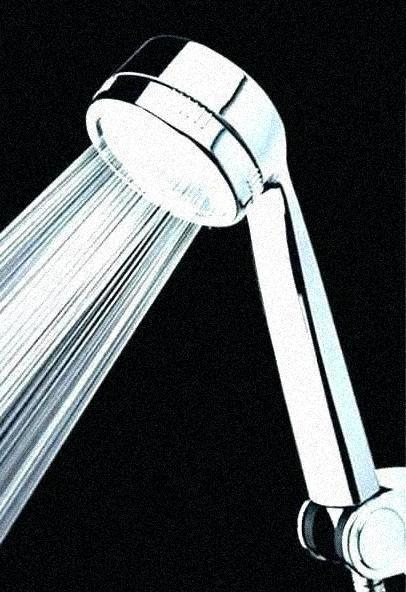Ducha: (0, 41, 405, 591)
